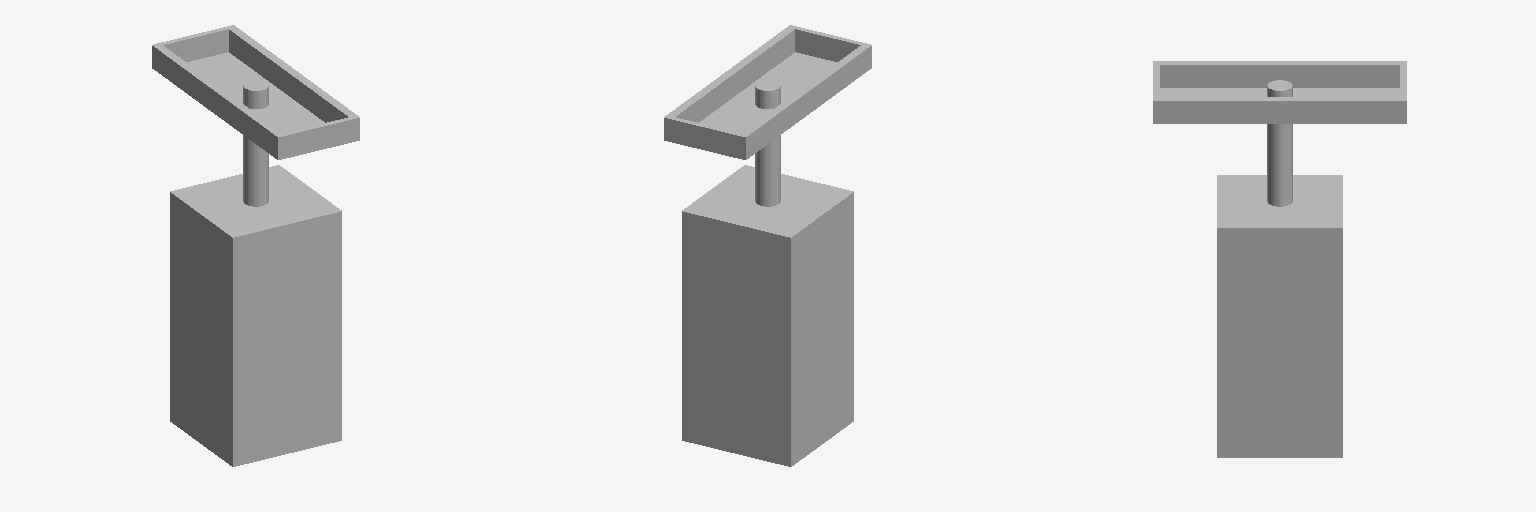
File: TacticalGripSelfmadeBison.obj
3 views of the same model, side by side, from view 1: azimuth 30°, elevation 25°; view 2: azimuth 150°, elevation 25°; view 3: azimuth 270°, elevation 25° (orthographic).
Parts seen in each view (by area): view 1: Cube.001; view 2: Cube.001; view 3: Cube.001.
Part boxes in pixels (x1,y1,x2,y2): Cube.001: (152, 25, 359, 466); Cube.001: (664, 25, 871, 466); Cube.001: (1153, 61, 1406, 457).
Bounding box in the file's own units: 2 × 6.09 × 4.